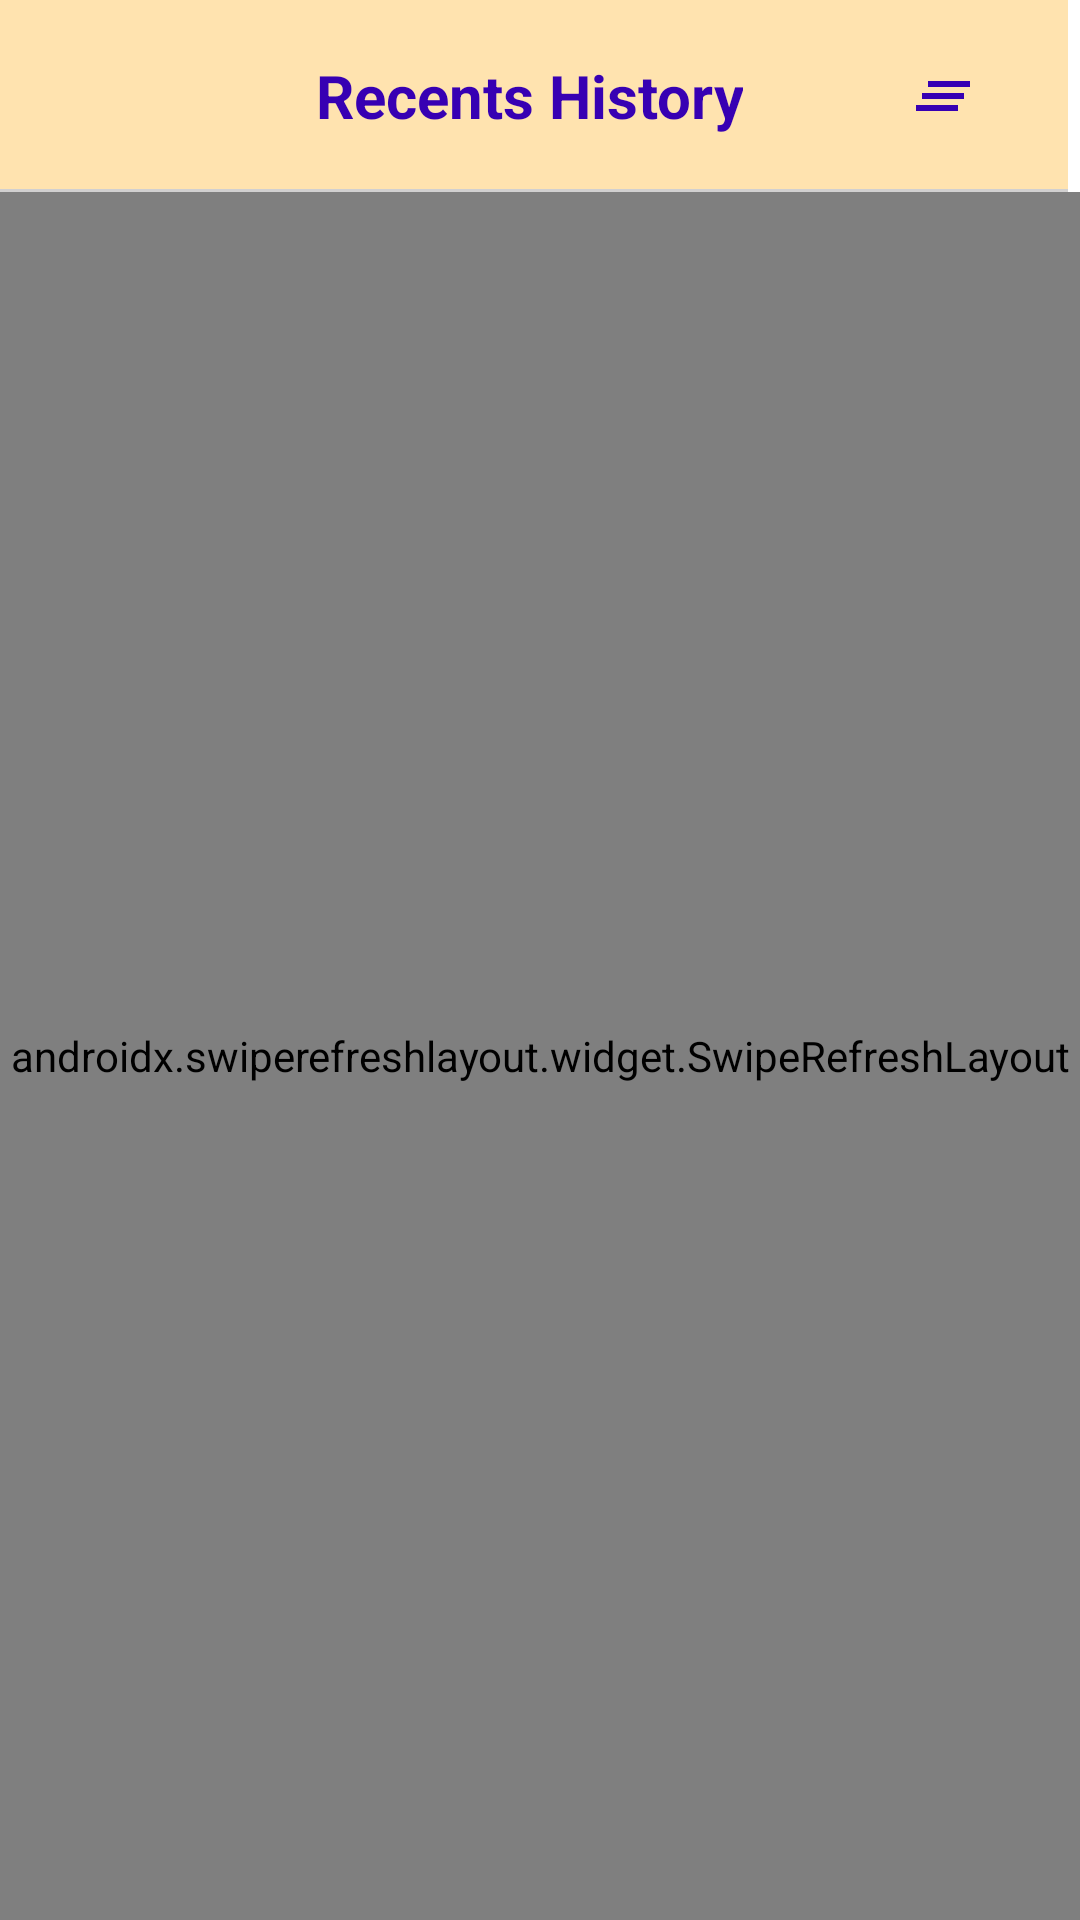

Icon click points for this 1080x1920 phone screenshot, format [x,y]:
clear all: [943,96]
